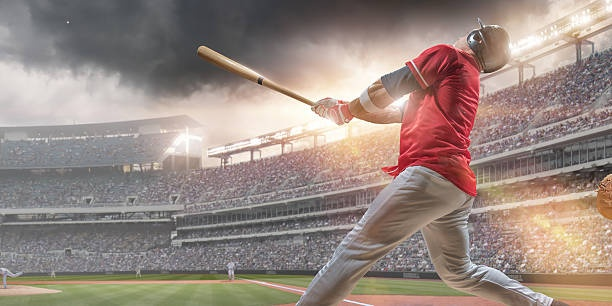bita: (195, 43, 329, 112)
